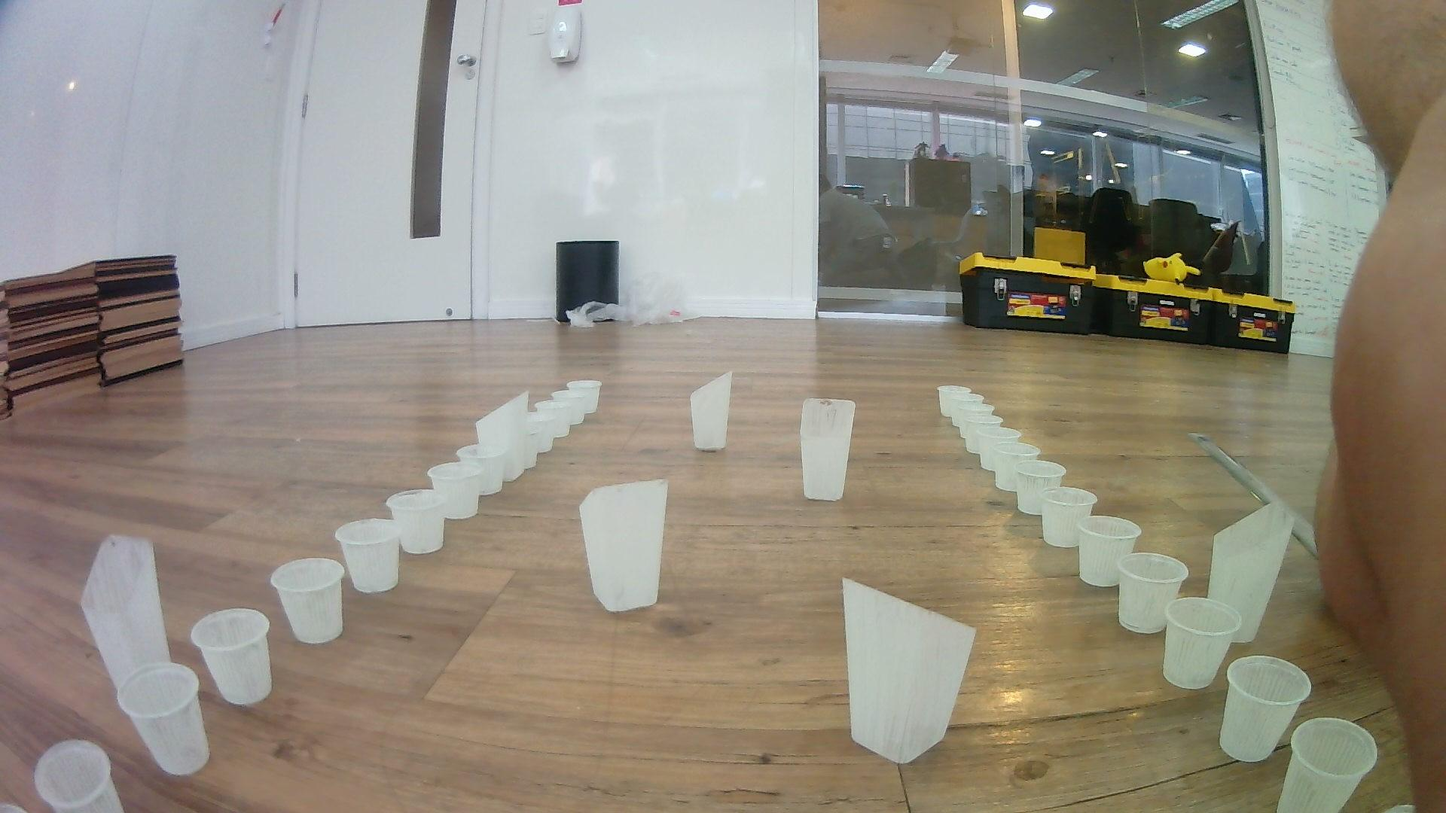erva_daninha: (841, 577, 978, 766), (80, 533, 173, 690), (578, 479, 670, 614), (1207, 503, 1292, 644), (799, 397, 857, 502), (475, 390, 530, 483), (688, 371, 734, 451)
planta: (115, 662, 211, 776), (1219, 655, 1313, 764), (1276, 717, 1380, 813), (190, 607, 273, 708), (1162, 596, 1243, 690), (32, 738, 127, 813), (270, 557, 346, 644), (1118, 552, 1189, 635), (334, 518, 402, 594), (1077, 515, 1142, 588), (386, 489, 447, 555), (1038, 486, 1098, 548), (428, 461, 483, 520), (1015, 460, 1067, 516), (455, 444, 506, 495), (994, 442, 1042, 492), (979, 426, 1022, 470), (963, 413, 1003, 455), (956, 402, 996, 439), (524, 410, 557, 453), (534, 400, 571, 438), (551, 389, 587, 425), (566, 379, 602, 414), (948, 393, 985, 427), (936, 385, 974, 418)
